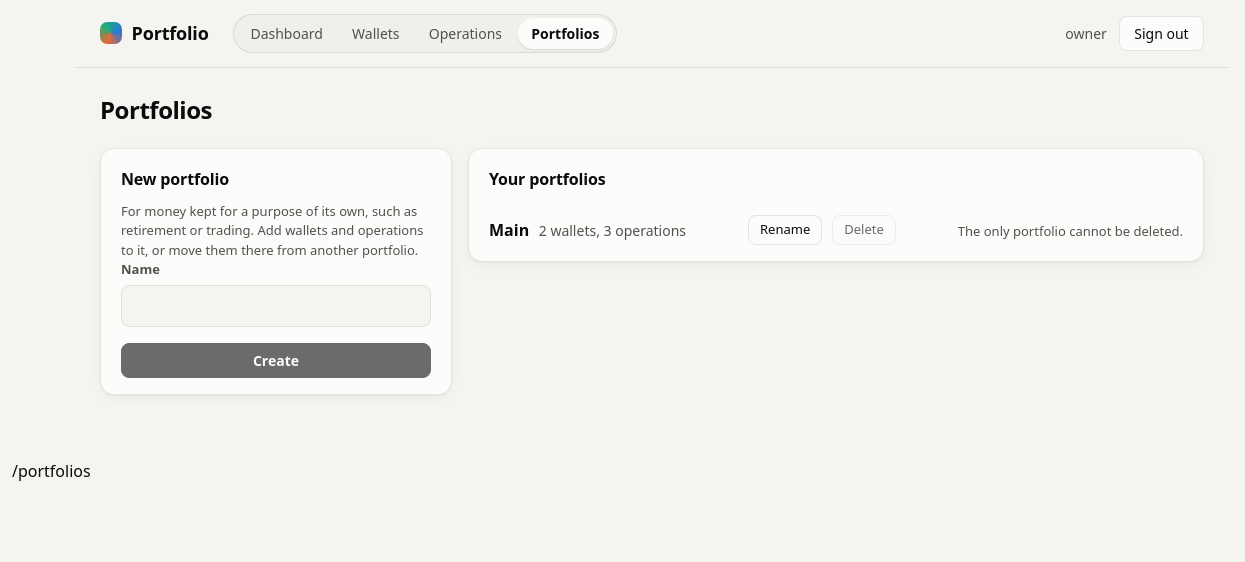
Test: the Portfolios page › shows the refusal of a name already taken
Expected: the text "2 wallets, 3 operations" is shown, [539, 220, 686, 241]
Type "Main" into the field labelled "Name" at (276, 306), box [121, 285, 431, 327]
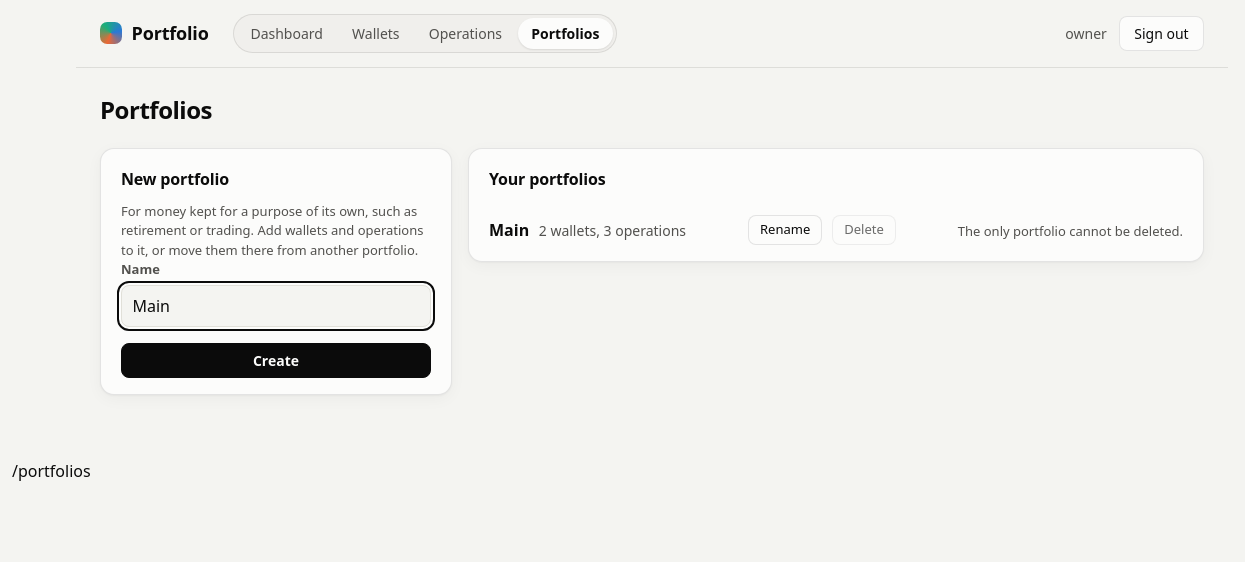
Click the button "Create" at (276, 360), box [121, 343, 431, 378]
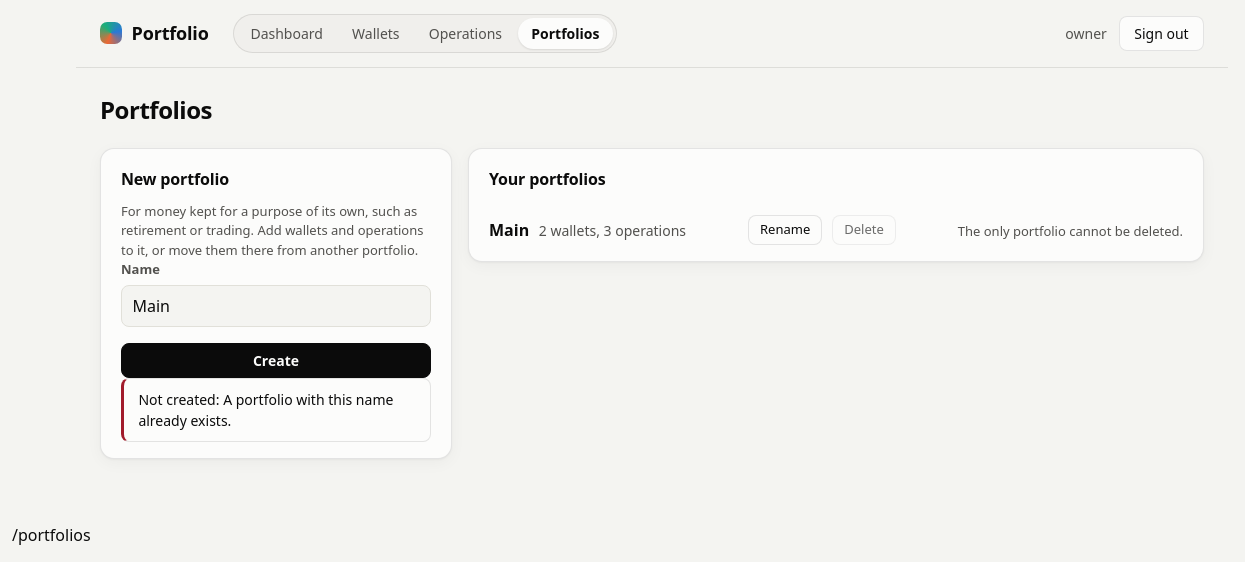
Expected: the message shows "A portfolio with this name already exists.", [138, 390, 393, 430]
